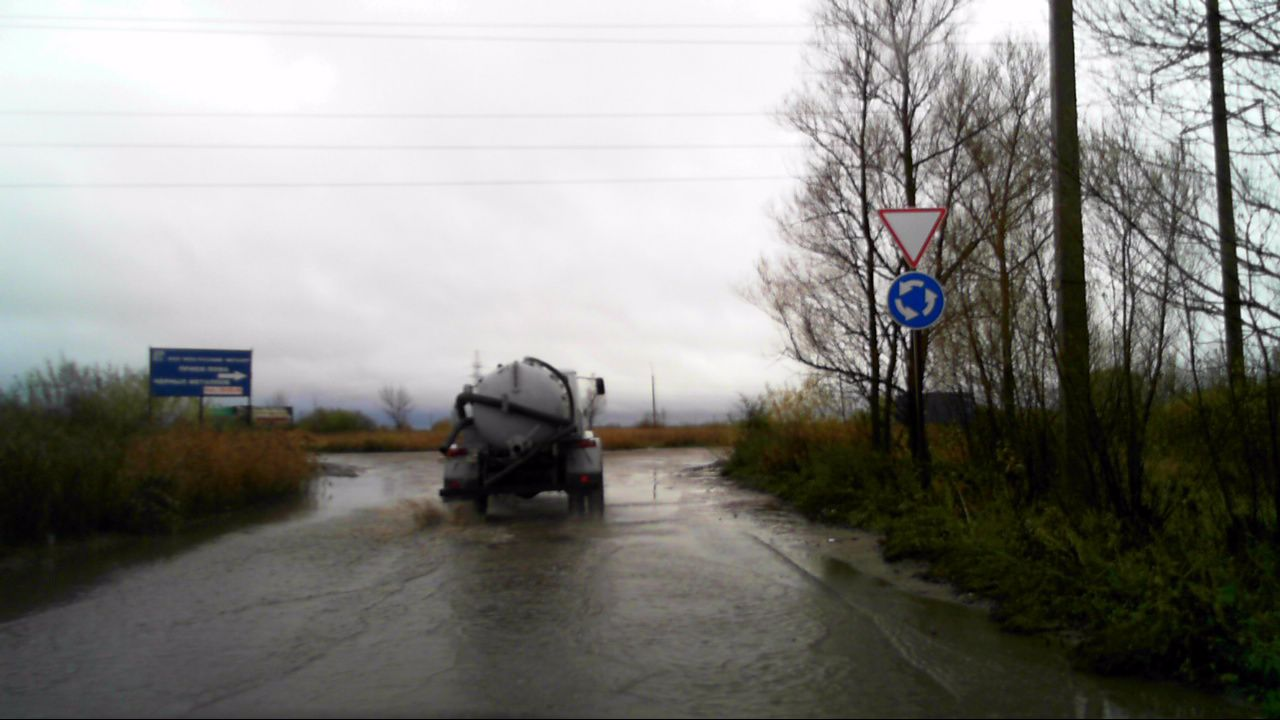Round-About: (885, 272, 945, 329)
